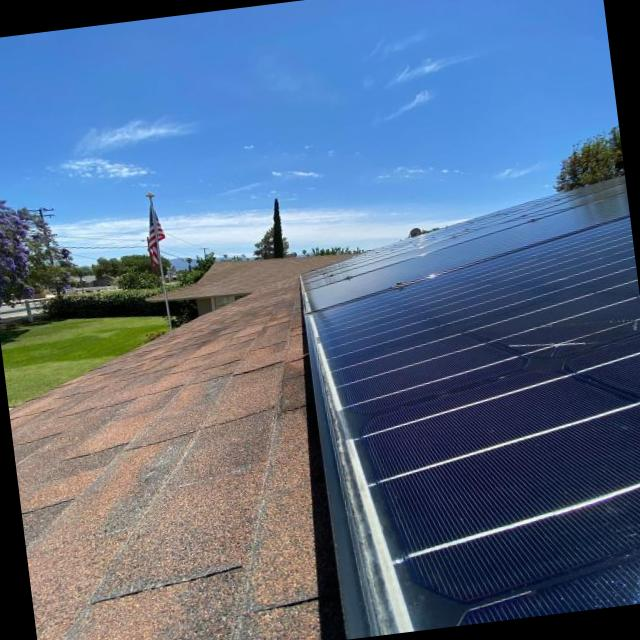no faulty: (313, 216, 640, 628), (307, 195, 630, 309)
